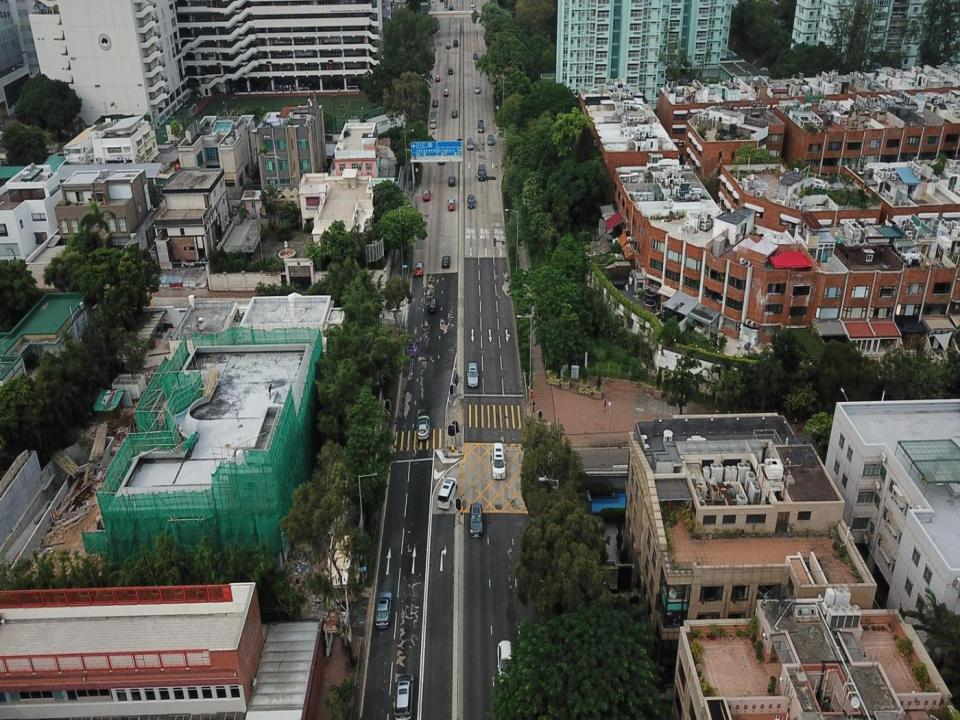car: (395, 674, 413, 719), (496, 640, 513, 684), (376, 590, 392, 628), (470, 503, 483, 539), (466, 362, 479, 389), (416, 416, 429, 440), (407, 335, 416, 360), (438, 146, 445, 166), (416, 260, 423, 277), (442, 255, 450, 268), (467, 195, 474, 209), (422, 189, 430, 201), (467, 137, 474, 150), (429, 116, 436, 129), (448, 198, 454, 211), (448, 176, 456, 185), (488, 134, 493, 146), (474, 85, 481, 93), (472, 51, 478, 60), (446, 41, 452, 49), (452, 109, 457, 118), (432, 98, 437, 106), (448, 3, 453, 10), (436, 74, 440, 82), (443, 89, 448, 95), (470, 2, 474, 8)
van: (437, 477, 457, 510), (491, 443, 507, 480), (428, 296, 437, 316), (477, 164, 485, 180), (478, 120, 484, 132), (448, 66, 453, 76), (452, 40, 458, 48)
